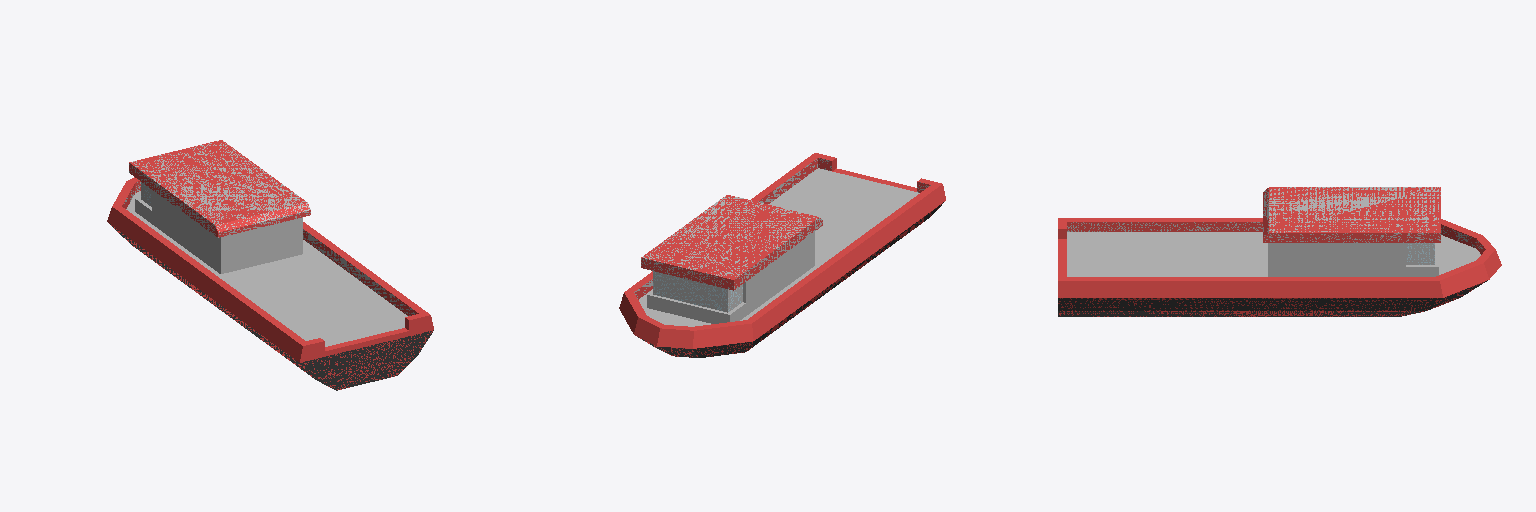
Rendered from boat_003.obj.
3 views of the same model, side by side, from view 1: azimuth 30°, elevation 25°; view 2: azimuth 150°, elevation 25°; view 3: azimuth 270°, elevation 25° (orthographic).
Visible parts, largest first — view 1: boat_003; view 2: boat_003; view 3: boat_003.
Part boxes in pixels (x1,y1,x2,y2): boat_003: (107,140,433,390); boat_003: (619,153,945,357); boat_003: (1058,187,1501,316).
Size of the model in its own units: 3.69 by 2.41 by 10.55.